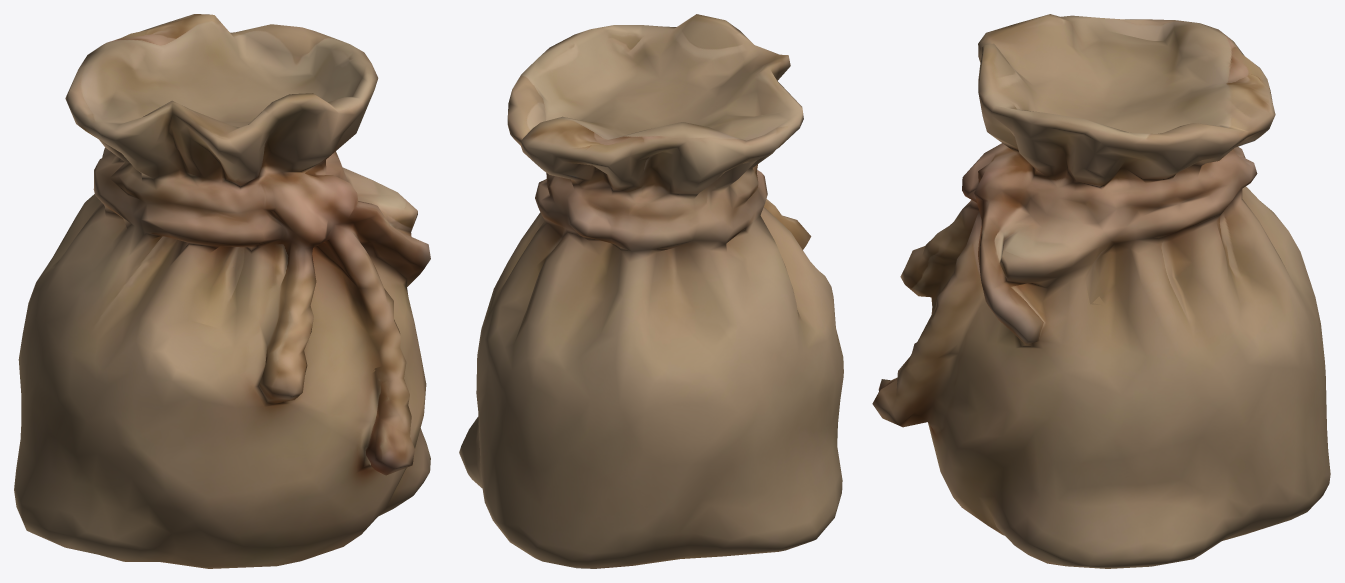
File: food_sack.glb
3 renders of one model, left to right at view 1: azimuth 30°, elevation 25°; view 2: azimuth 150°, elevation 25°; view 3: azimuth 270°, elevation 25°, orthographic. The views are drawn at different scales.
Parts seen in each view (by area): view 1: tripo_node_c450940f-1ad4-4903-992f-4ef6d7017365; view 2: tripo_node_c450940f-1ad4-4903-992f-4ef6d7017365; view 3: tripo_node_c450940f-1ad4-4903-992f-4ef6d7017365.
Boxes of the visible parts, x1,y1,x2,y2 form: tripo_node_c450940f-1ad4-4903-992f-4ef6d7017365: (14,14,430,568); tripo_node_c450940f-1ad4-4903-992f-4ef6d7017365: (459,14,843,568); tripo_node_c450940f-1ad4-4903-992f-4ef6d7017365: (872,14,1330,568).
Bounding box in the file's own units: 0.8262 × 0.9985 × 0.8976.
1 material, 1 textured.
